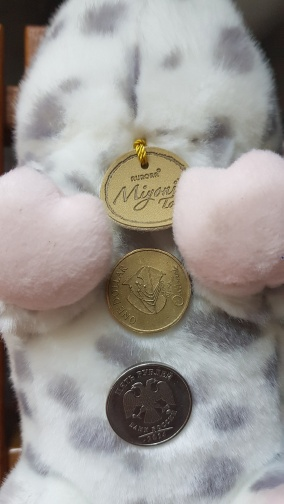coin: (104, 361, 195, 447), (105, 248, 192, 334)
